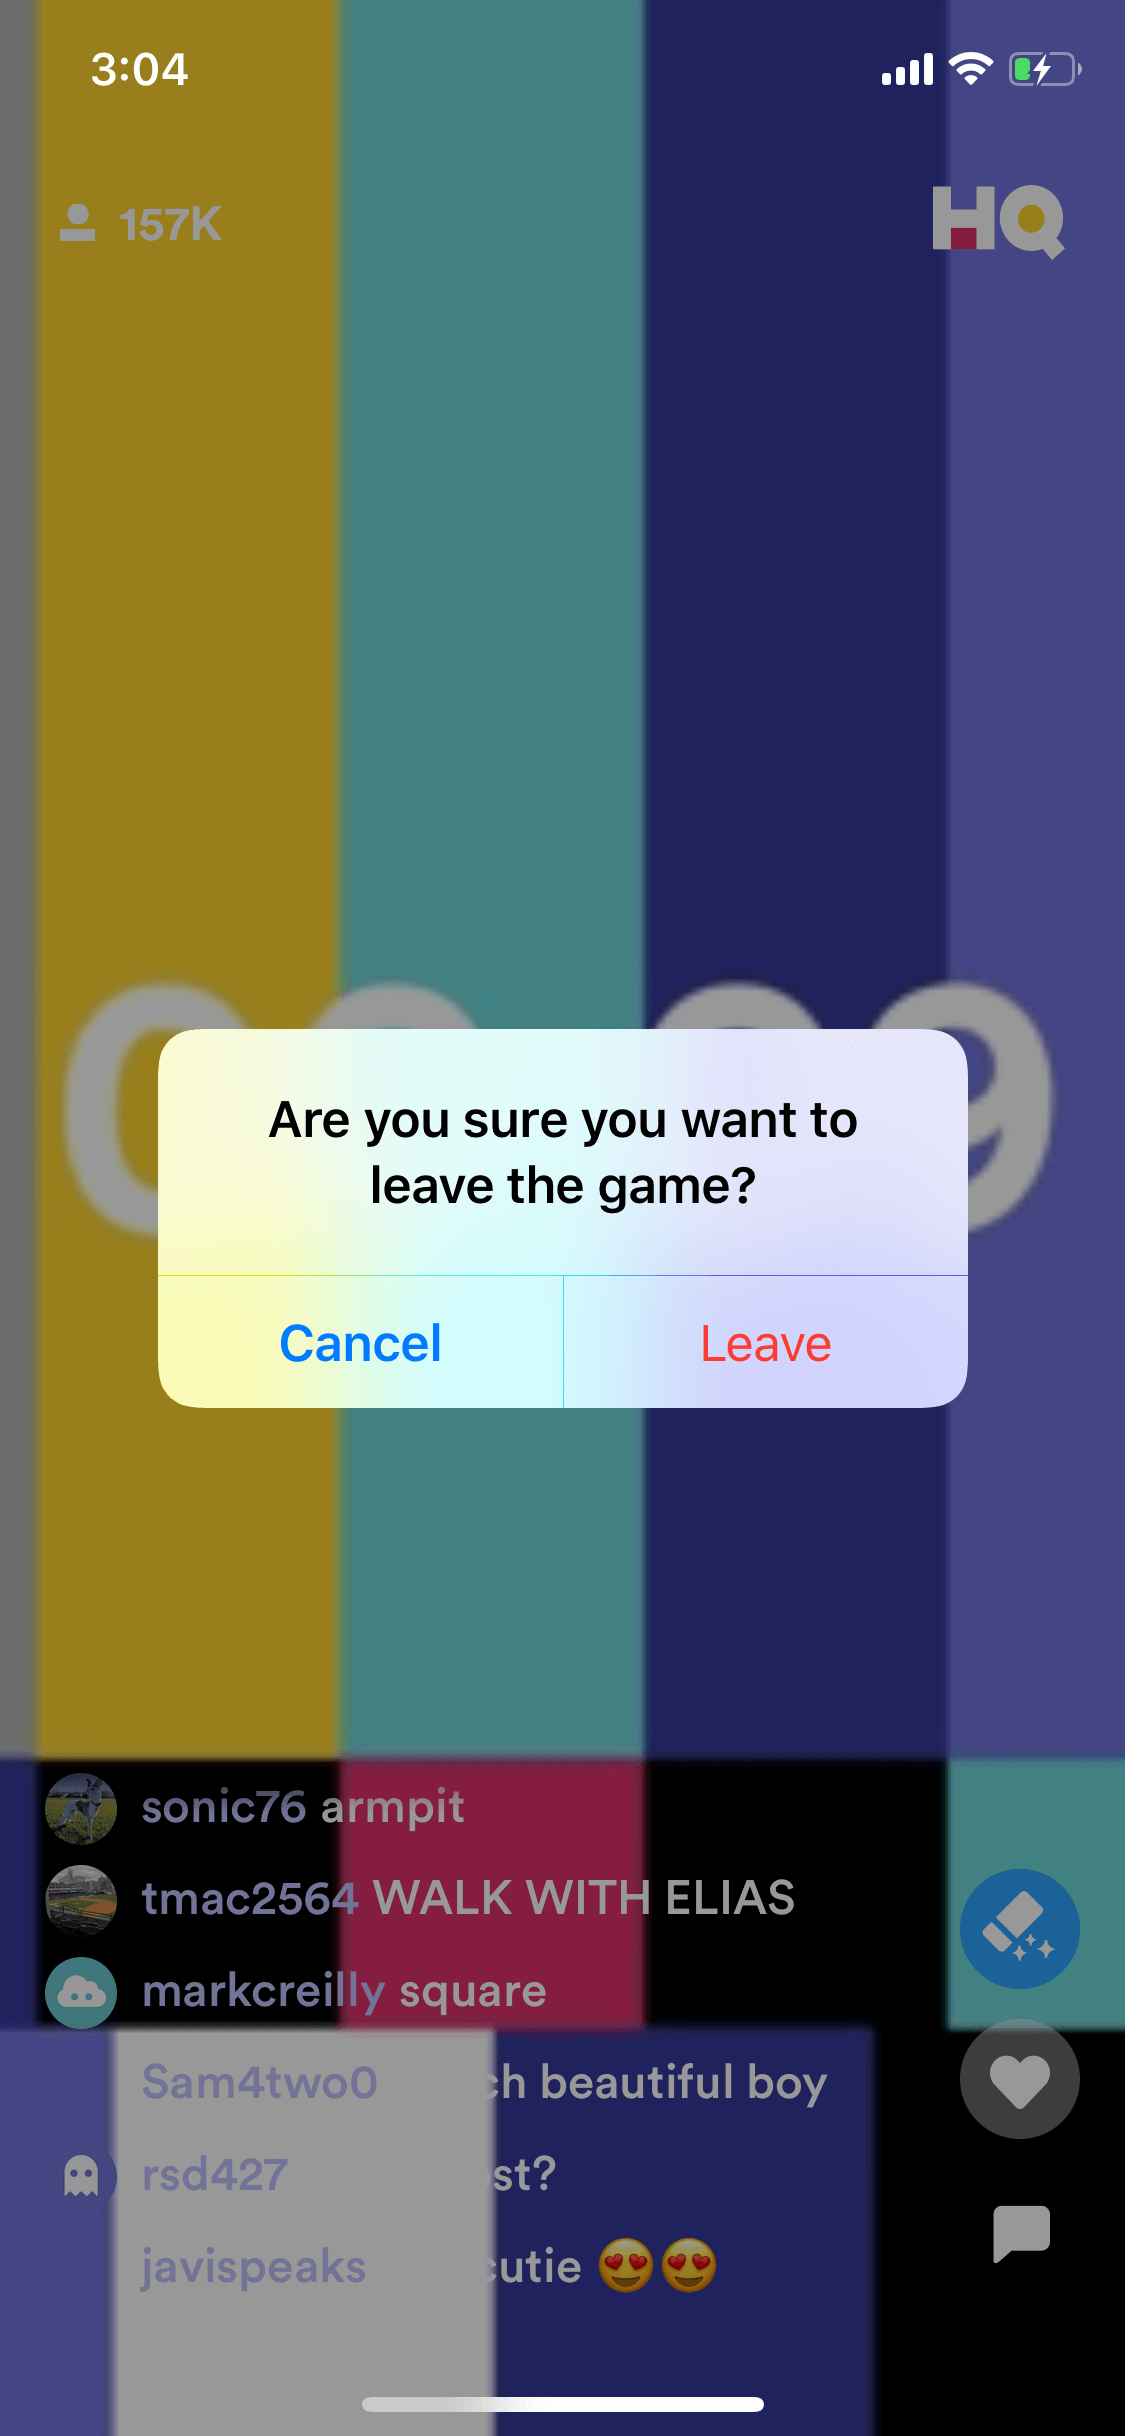FAB (Floating Action Button): (948, 1850, 1095, 2001), (942, 2166, 1103, 2295), (949, 2017, 1102, 2145)
